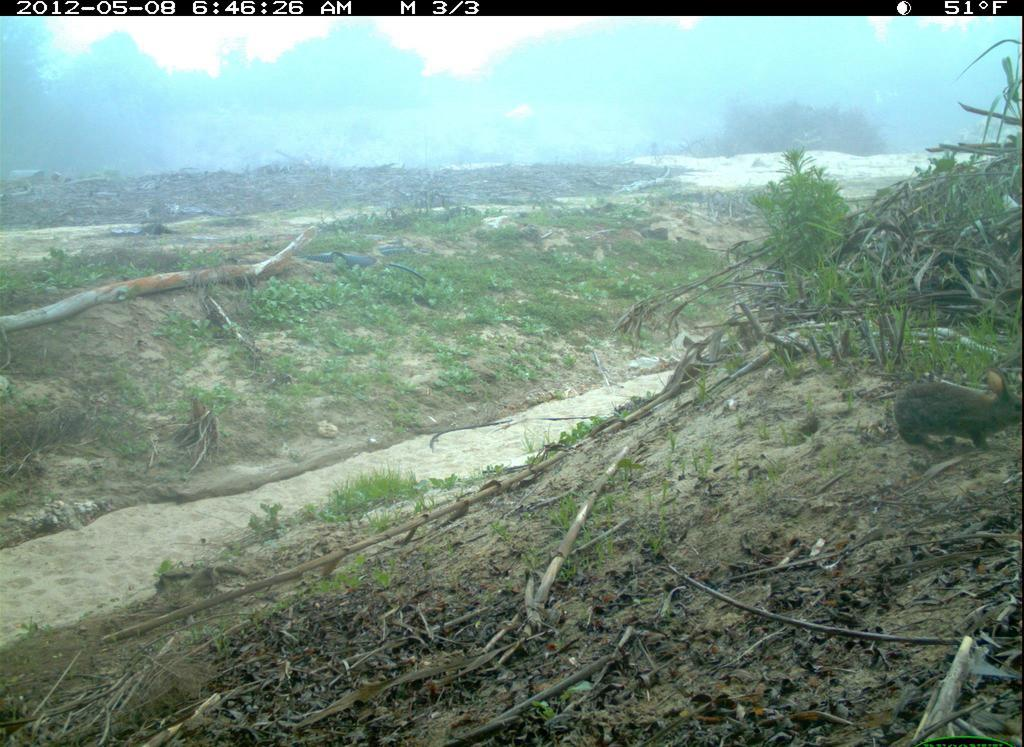rabbit: (871, 337, 1023, 468)
